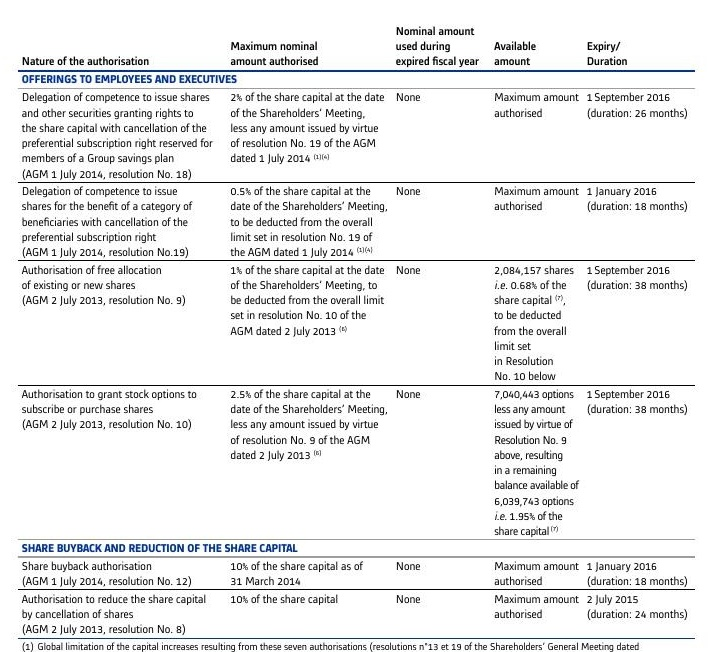table: (0, 0, 714, 652)
